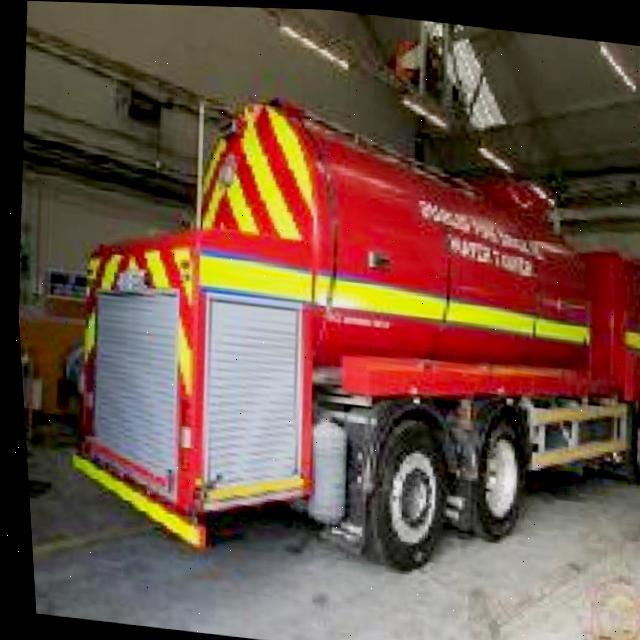emergency: (37, 71, 640, 601)
